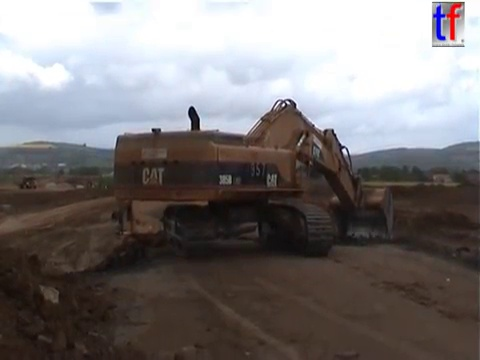excavator: (109, 96, 398, 259)
truck: (109, 193, 259, 268), (17, 175, 39, 192)
